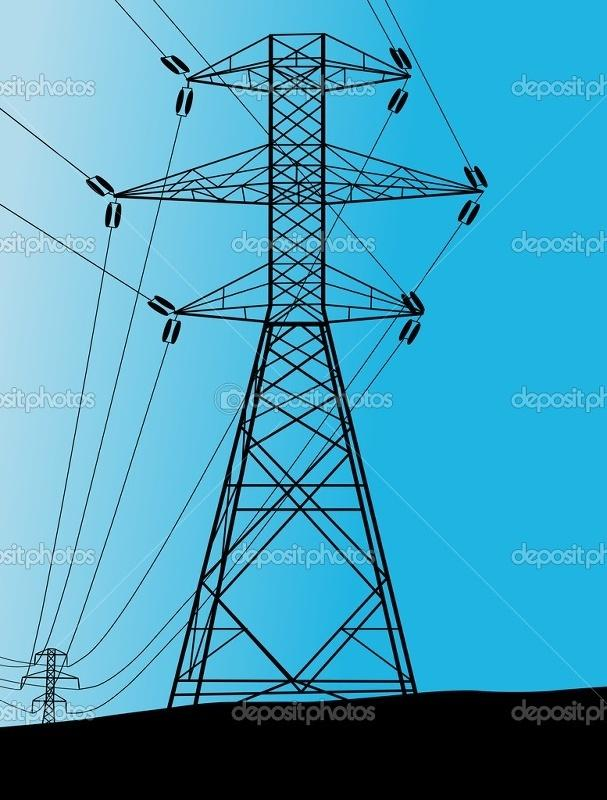power_tower: (114, 25, 473, 704)
